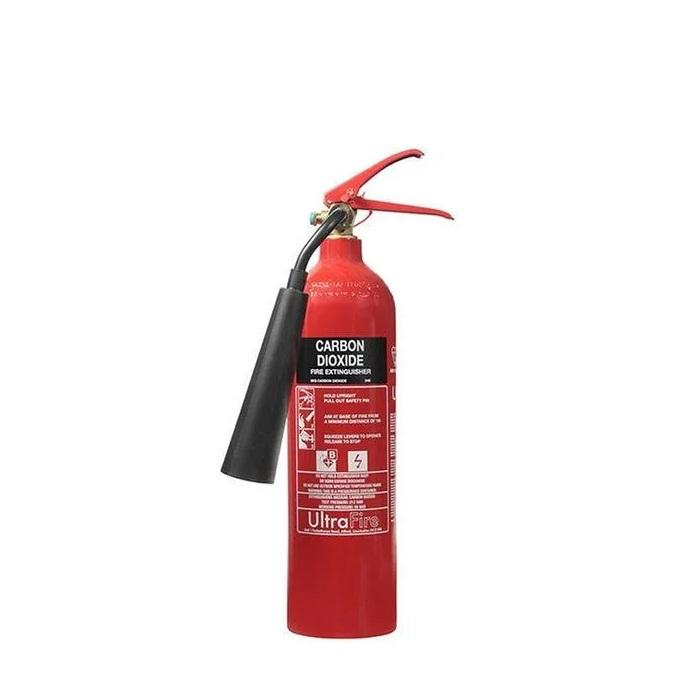Fire Extinguisher: (200, 144, 492, 642)
